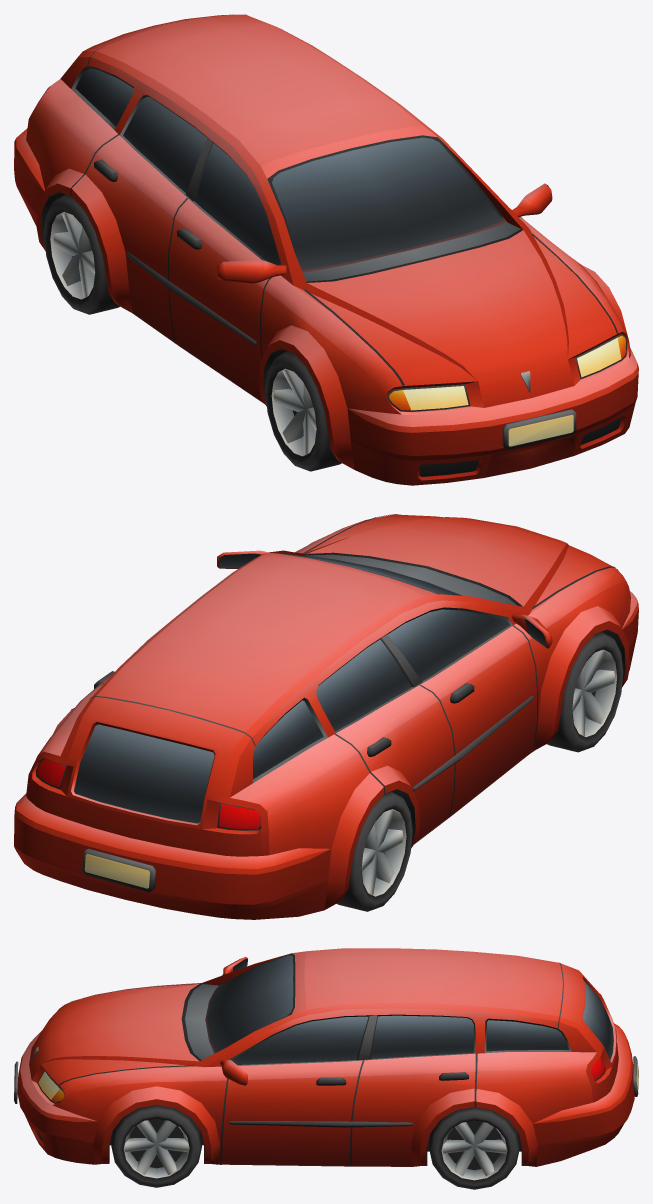
Rendered from Car_14D.fbx.
3 views of the same model, one above another, from view 1: azimuth 30°, elevation 25°; view 2: azimuth 150°, elevation 25°; view 3: azimuth 270°, elevation 25° (orthographic). The views are drawn at different scales.
Visible parts, largest first — view 1: Car_14D, Wheel_14D_F.R, Wheel_14D_R.R; view 2: Car_14D, Wheel_14D_F.R, Wheel_14D_R.R; view 3: Car_14D, Wheel_14D_F.L, Wheel_14D_R.L.
Part boxes in pixels (x1,y1,x2,y2): Car_14D: [14, 14, 638, 485]; Wheel_14D_F.R: [265, 351, 341, 471]; Wheel_14D_R.R: [44, 194, 119, 314]; Car_14D: [14, 514, 638, 919]; Wheel_14D_F.R: [547, 632, 623, 752]; Wheel_14D_R.R: [337, 791, 412, 911]; Car_14D: [14, 948, 638, 1166]; Wheel_14D_F.L: [111, 1105, 201, 1187]; Wheel_14D_R.L: [429, 1107, 519, 1189].
Bounding box in the file's own units: 80.71 × 51.75 × 178.
